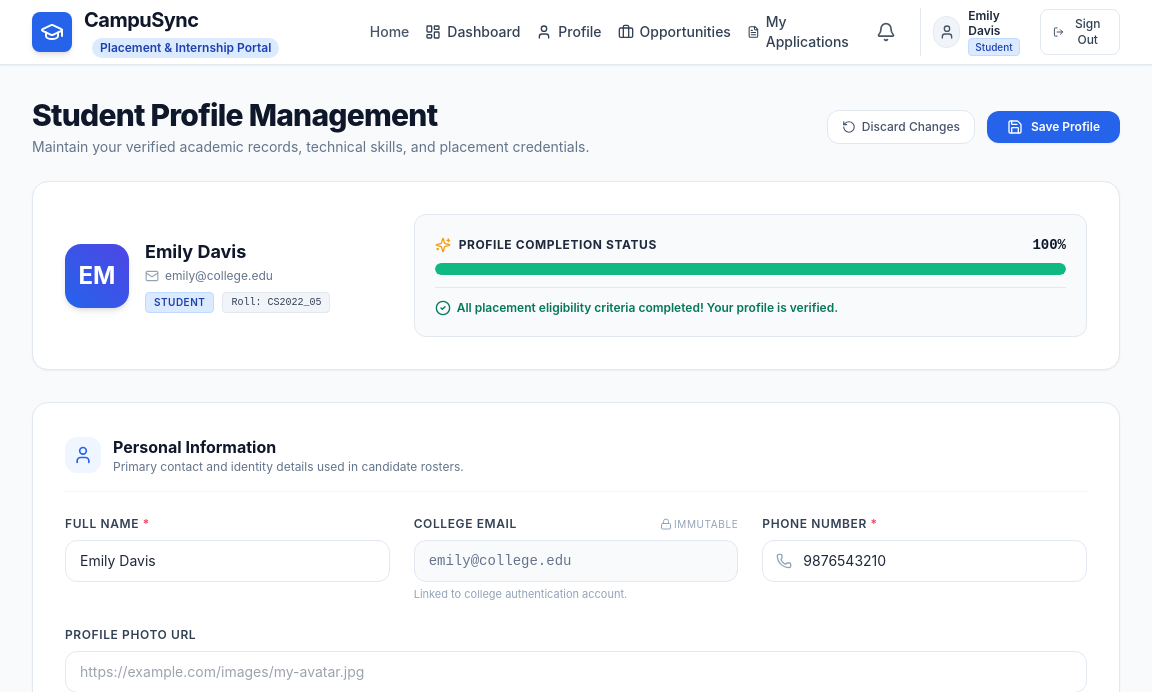
Test: Student Profile Management Flow (/profile) › successfully submits updated profile and updates view and auth state
Change fields
Replace the text in the field with test id "input-name" with "Emily Davis Updated" at (227, 561), box top-left (65, 540), bottom-right (390, 582)
(page scrolled)
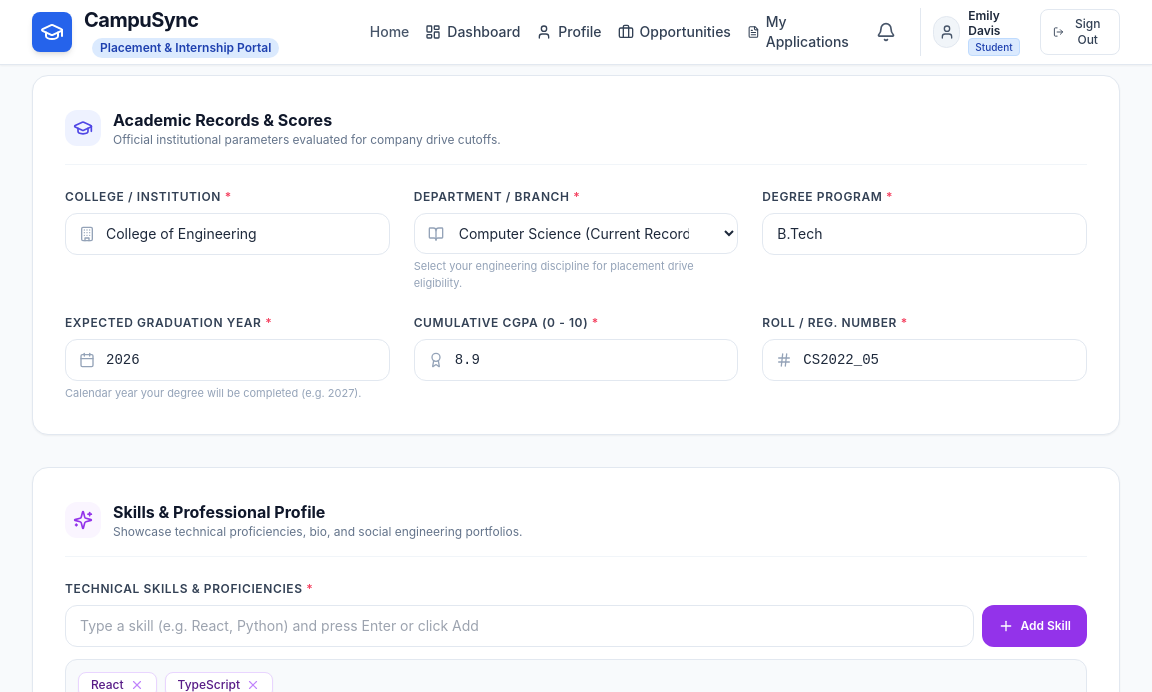
Replace the text in the number field with test id "input-cgpa" with "9.25" at (576, 360), box top-left (414, 339), bottom-right (738, 381)
(page scrolled)
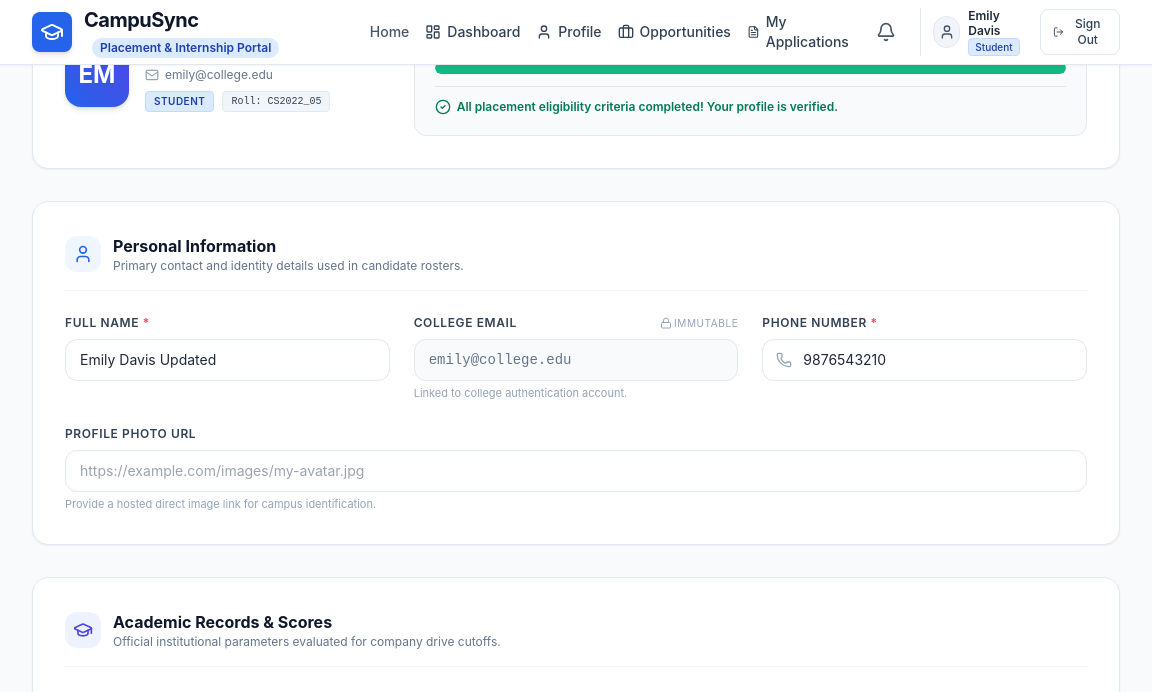
Replace the text in the field with test id "input-phone" with "9998887776" at (925, 360), box top-left (762, 339), bottom-right (1087, 381)
(page scrolled)
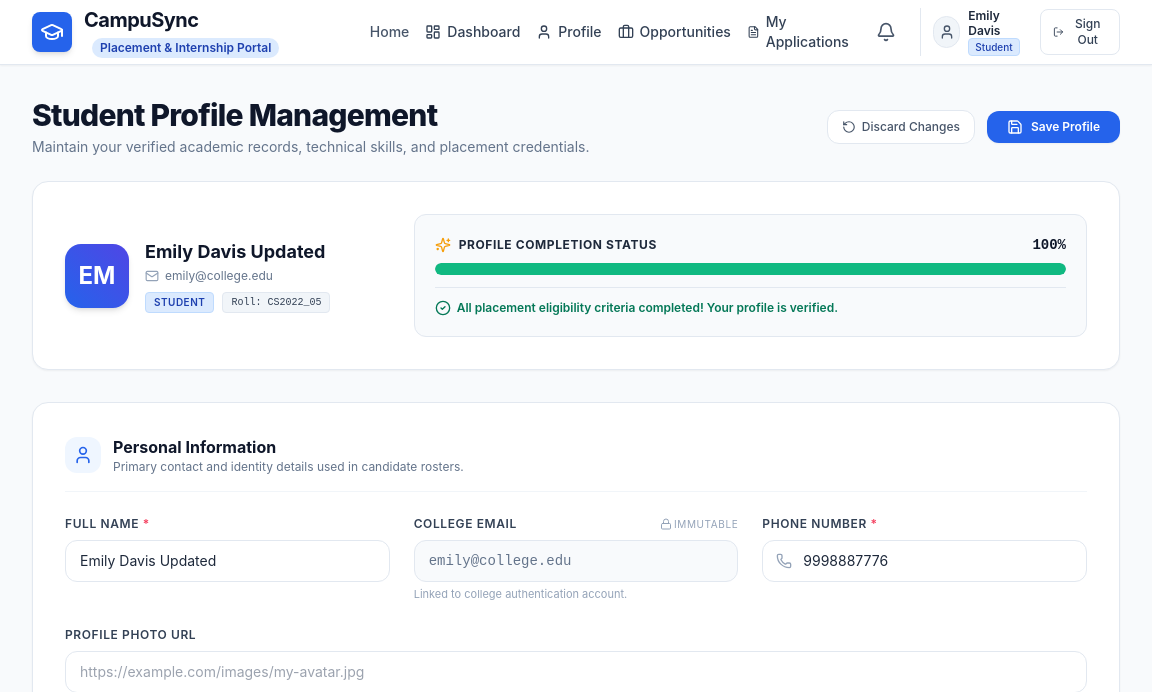
Click the button with test id "save-profile-btn" at (1053, 127), box top-left (987, 111), bottom-right (1120, 143)
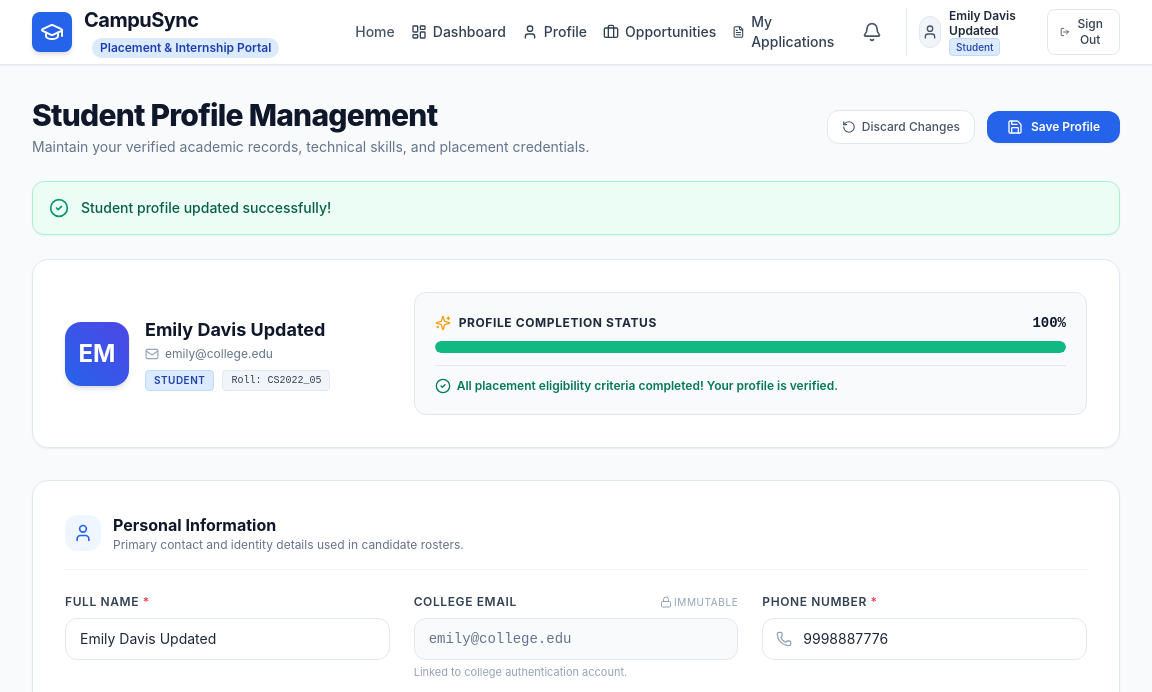
Result: the heading with test id "profile-name-display" reads "Emily Davis Updated" at top-left (145, 319), bottom-right (325, 340)
Result: the element with test id "profile-success-alert" reads "Student profile updated successfully!" at top-left (81, 199), bottom-right (331, 216)
